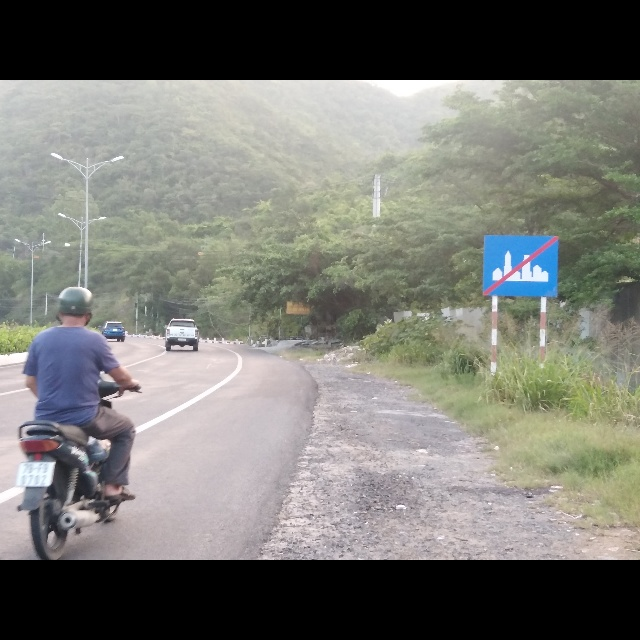Hết khu đông dân cư: (482, 231, 561, 298)
